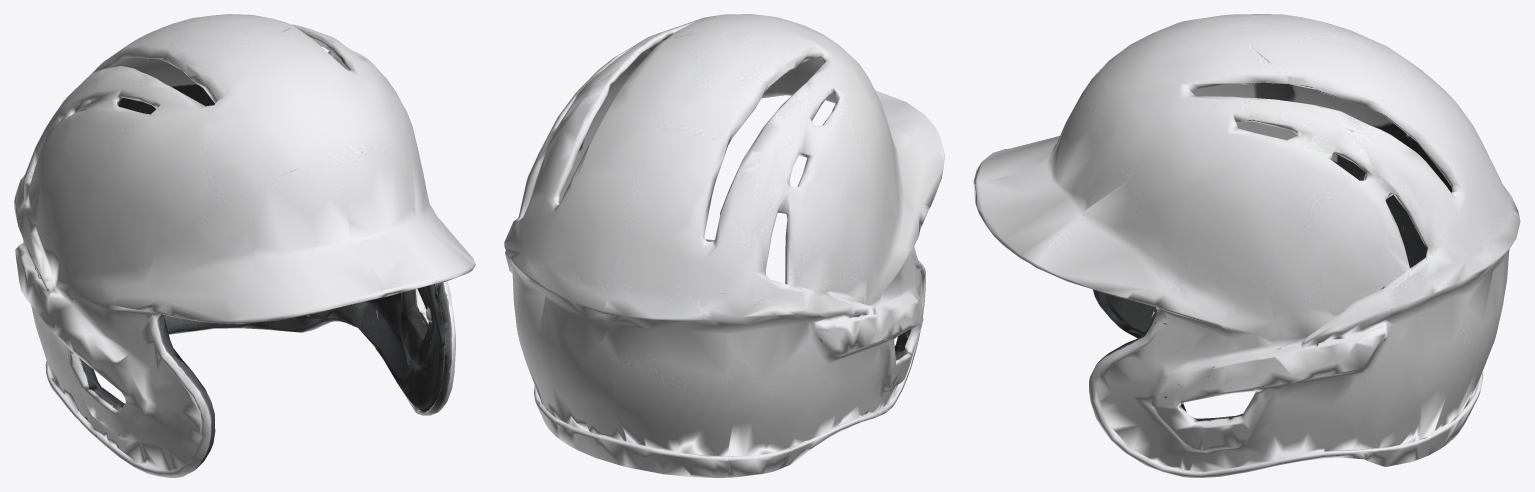
File: batting_helmet.glb
3 renders of one model, left to right at view 1: azimuth 30°, elevation 25°; view 2: azimuth 150°, elevation 25°; view 3: azimuth 270°, elevation 25°, orthographic. The views are drawn at different scales.
Bounding box in the file's own units: 1.47 × 1.46 × 1.9.
Materials: 1 (1 with a texture image).
